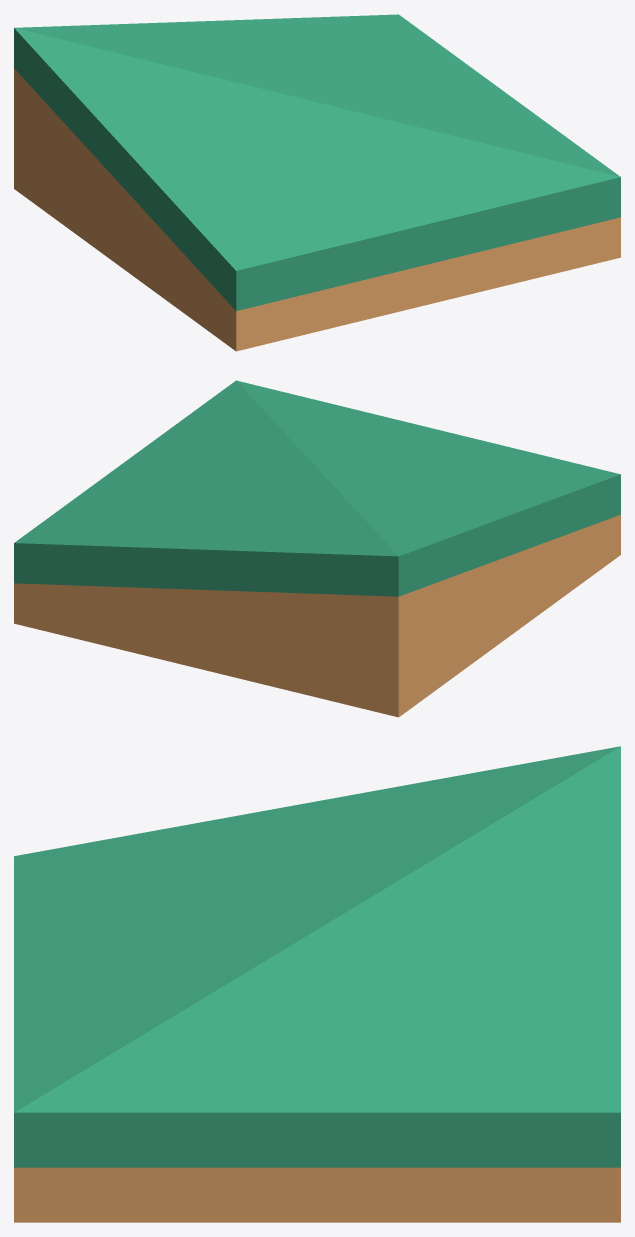
File: tile_cornerOuter.dae
The picture shows the model from 3 angles, top to bottom: view 1: azimuth 30°, elevation 25°; view 2: azimuth 150°, elevation 25°; view 3: azimuth 270°, elevation 25°; orthographic projection. The views are drawn at different scales.
Parts seen in each view (by area): view 1: tile_cornerOuter; view 2: tile_cornerOuter; view 3: tile_cornerOuter.
Part boxes in pixels (bbox=[...]): tile_cornerOuter: bbox=[14, 14, 620, 351]; tile_cornerOuter: bbox=[14, 380, 620, 717]; tile_cornerOuter: bbox=[14, 746, 620, 1222].
Bounding box in the file's own units: 1 × 0.4 × 1.
